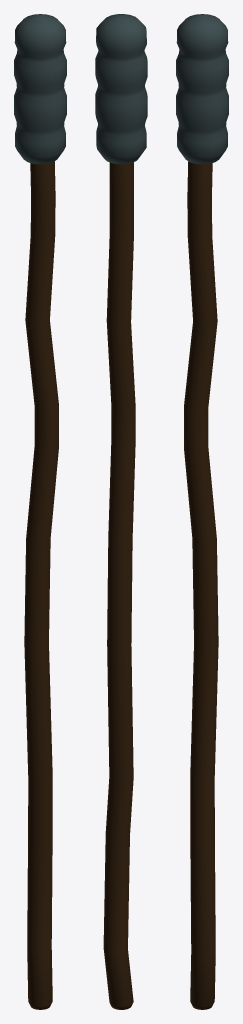
File: torch.obj
3 renders of one model, left to right at view 1: azimuth 90°, elevation 25°; view 2: azimuth 150°, elevation 25°; view 3: azimuth 270°, elevation 25°, orthographic.
Parts seen in each view (by area): view 1: Stick_Cylinder, Cloth_Sphere; view 2: Stick_Cylinder, Cloth_Sphere; view 3: Stick_Cylinder, Cloth_Sphere.
Part boxes in pixels (left/top/right/bottom): Stick_Cylinder: left=24, top=161, right=58, bottom=1009; Cloth_Sphere: left=14, top=14, right=66, bottom=164; Stick_Cylinder: left=103, top=162, right=135, bottom=1009; Cloth_Sphere: left=95, top=14, right=147, bottom=164; Stick_Cylinder: left=184, top=161, right=218, bottom=1009; Cloth_Sphere: left=176, top=14, right=228, bottom=164.
Size of the model in its own units: 0.0431 by 0.892 by 0.0431.
